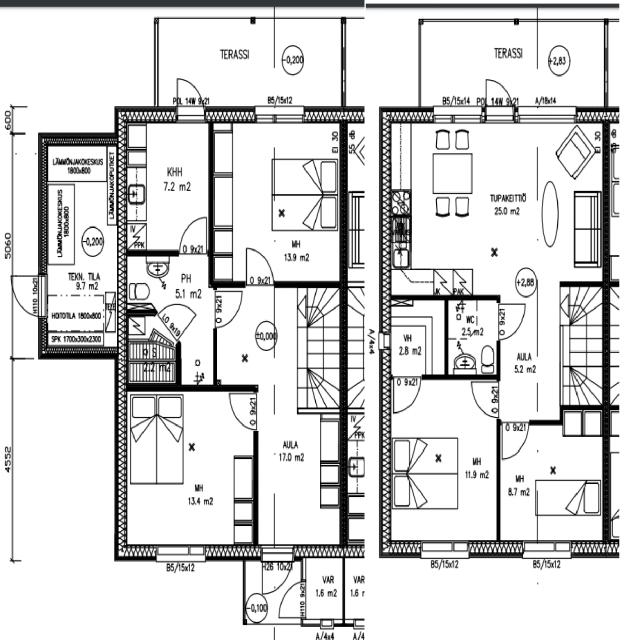door: (156, 288, 196, 344), (262, 545, 292, 602), (8, 276, 47, 316), (485, 69, 513, 124), (178, 72, 203, 124), (274, 581, 306, 617), (394, 374, 421, 416), (213, 291, 244, 327), (247, 245, 273, 287), (180, 214, 206, 256), (227, 394, 258, 429), (470, 382, 500, 417), (497, 304, 526, 340), (503, 420, 528, 459)
